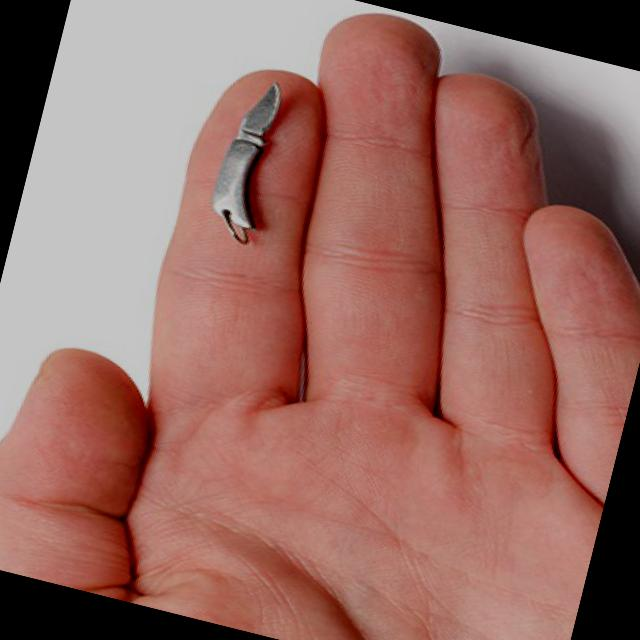knife: (208, 56, 296, 180)
